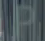Parking: (12, 1, 40, 39)
